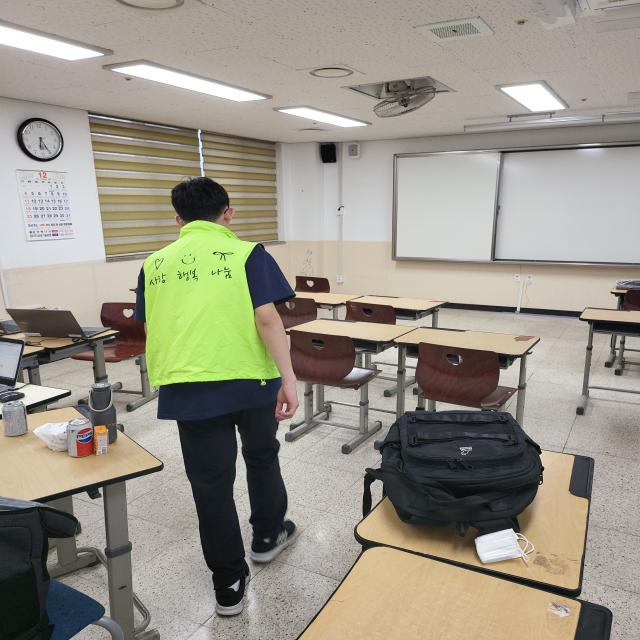weston_spy: (122, 207, 313, 404)
